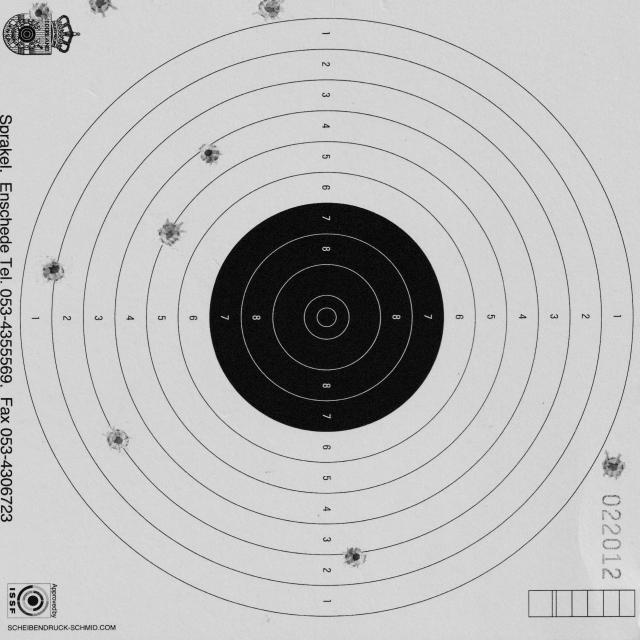0: (596, 450, 628, 482), (253, 0, 287, 25), (27, 1, 56, 27), (86, 0, 120, 20)
2: (40, 258, 67, 284)
3: (101, 424, 133, 455), (341, 545, 368, 570)
4: (198, 141, 224, 166)
5: (156, 218, 187, 252)
Target: (18, 16, 635, 621)
black_contour: (209, 202, 443, 432)
